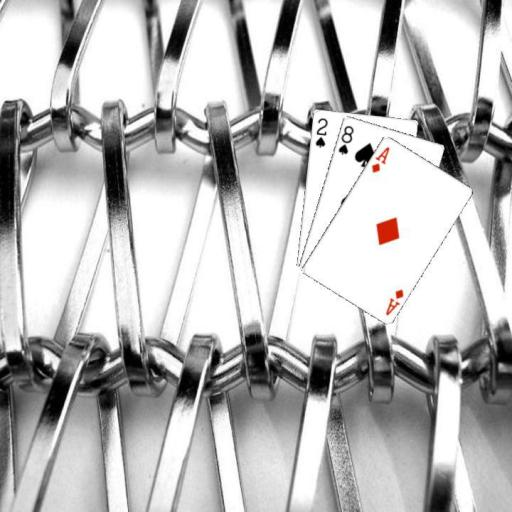2S: (312, 115, 329, 149)
8S: (335, 122, 355, 156)
AD: (368, 143, 391, 174), (382, 286, 405, 316)
